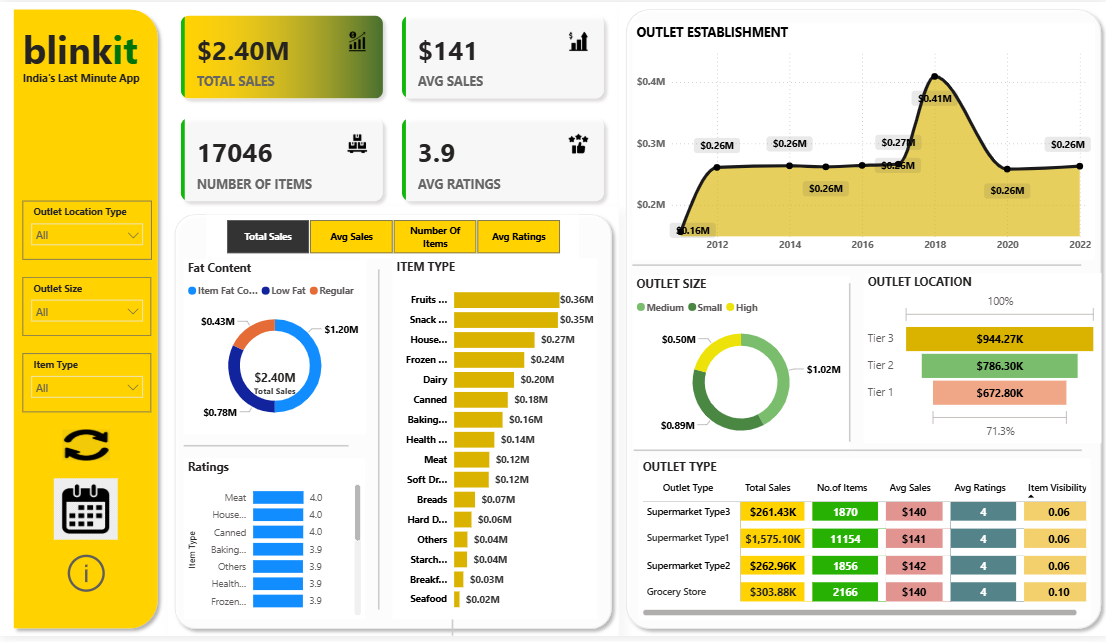

What the dashboard file says about the page in this screenshot:
{"tool":"powerbi","page":{"name":"Blinkit Dash board","canvas":[1400,800],"ordinal":0},"visuals":[{"type":"shape","box":[7.9,0,200.4,800.1],"z":0},{"type":"textbox","box":[23.7,22.1,173.6,78.9],"z":1000},{"type":"textbox","box":[23.7,82.1,173.6,37.9],"z":2000},{"type":"cardVisual","fields":{"Data":["BlinkIT Grocery Data.Total Sales","BlinkIT Grocery Data.Avg Sales","BlinkIT Grocery Data.Number Of Items","BlinkIT Grocery Data.Avg Ratings"]},"box":[211.5,0,569.7,268.3],"z":3000},{"type":"shape","box":[211.8,258.7,569.7,541.6],"z":4000},{"type":"donutChart","title":"FAT CONTENT","fields":{"Y":["BlinkIT Grocery Data.Total Sales"],"Category":["BlinkIT Grocery Data.Item Fat Content"]},"box":[232,325.1,230.4,220.9],"z":5000},{"type":"slicer","fields":{"Values":["Metrics.Metrics"]},"box":[260.4,268.3,470.3,55.2],"z":6000},{"type":"cardVisual","fields":{"Data":["BlinkIT Grocery Data.Total Sales"]},"box":[301.4,443.4,91.5,74.2],"z":7000},{"type":"clusteredBarChart","title":"FAT BY OUTLET","fields":{"Y":["BlinkIT Grocery Data.Total Sales"],"Category":["BlinkIT Grocery Data.Outlet Location Type"],"Series":["BlinkIT Grocery Data.Item Fat Content"]},"box":[231.4,575.7,231.4,204.3],"z":8000},{"type":"shape","box":[232,546,208.3,28.4],"z":9000},{"type":"shape","box":[553.9,370.8,34.7,429.2],"z":10000},{"type":"barChart","title":"ITEM TYPE","fields":{"Y":["BlinkIT Grocery Data.Total Sales"],"Category":["BlinkIT Grocery Data.Item Type"]},"box":[495.5,323.5,258.8,456],"z":11000},{"type":"shape","box":[781.5,0,618,800.3],"z":12000},{"type":"areaChart","title":" OUTLET ESTABLISHMENT ","fields":{"Y":["BlinkIT Grocery Data.Total Sales"],"Category":["BlinkIT Grocery Data.Outlet Establishment Year"]},"box":[798.5,26.8,583.9,298.2],"z":13000},{"type":"shape","box":[798.5,318.8,566.5,26.8],"z":14000},{"type":"donutChart","title":"OUTLET SIZE","fields":{"Y":["BlinkIT Grocery Data.Total Sales"],"Category":["BlinkIT Grocery Data.Outlet Size"]},"box":[798.5,345.6,274.6,220.9],"z":15000},{"type":"shape","box":[460.8,337.7,34.7,429.2],"z":16000},{"type":"shape","box":[1054.3,355.7,37.1,200],"z":17000},{"type":"funnel","title":"OUTLET LOCATION","fields":{"Y":["BlinkIT Grocery Data.Total Sales"],"Category":["BlinkIT Grocery Data.Outlet Location Type"]},"box":[1090,342.9,300,214.3],"z":18000},{"type":"shape","box":[800,552.9,565.7,27.1],"z":19000},{"type":"pivotTable","title":"OUTLET TYPE","fields":{"Rows":["BlinkIT Grocery Data.Outlet Type"],"Values":["BlinkIT Grocery Data.Total Sales","BlinkIT Grocery Data.Number Of Items","BlinkIT Grocery Data.Avg Sales","BlinkIT Grocery Data.Avg Ratings","Avg(BlinkIT Grocery Data.Item Visibility)"]},"box":[805.7,575.7,570,204.3],"z":20000},{"type":"slicer","fields":{"Values":["BlinkIT Grocery Data.Outlet Location Type"]},"box":[28.6,251.4,162.9,74.3],"z":21000},{"type":"slicer","fields":{"Values":["BlinkIT Grocery Data.Outlet Size"]},"box":[28.4,347.2,162.5,74.2],"z":22000},{"type":"actionButton","box":[80.2,564.9,60,39.5],"z":23000},{"type":"slicer","fields":{"Values":["BlinkIT Grocery Data.Item Type"]},"box":[28.4,443.4,162.5,74.2],"z":24000},{"type":"actionButton","box":[69.4,639.1,80.5,77.3],"z":26000}]}

Visuals, with their boxes in screenshot pixels (x1, y1, x2, y2), scaled from the page's 1400x800 canvas onto the 1106x642 screenshot:
shape: pyautogui.locateOnScreen(6, 0, 165, 641)
textbox: pyautogui.locateOnScreen(19, 18, 156, 81)
textbox: pyautogui.locateOnScreen(19, 66, 156, 96)
cardVisual - BlinkIT Grocery Data.Total Sales x BlinkIT Grocery Data.Avg Sales: pyautogui.locateOnScreen(167, 0, 617, 215)
shape: pyautogui.locateOnScreen(167, 208, 617, 641)
"FAT CONTENT" donutChart: pyautogui.locateOnScreen(183, 261, 365, 438)
slicer - Metrics.Metrics: pyautogui.locateOnScreen(206, 215, 577, 260)
cardVisual - BlinkIT Grocery Data.Total Sales: pyautogui.locateOnScreen(238, 356, 310, 415)
"FAT BY OUTLET" clusteredBarChart: pyautogui.locateOnScreen(183, 462, 366, 626)
shape: pyautogui.locateOnScreen(183, 438, 348, 461)
shape: pyautogui.locateOnScreen(438, 298, 465, 641)
"ITEM TYPE" barChart: pyautogui.locateOnScreen(391, 260, 596, 626)
shape: pyautogui.locateOnScreen(617, 0, 1105, 641)
" OUTLET ESTABLISHMENT " areaChart: pyautogui.locateOnScreen(631, 22, 1092, 261)
shape: pyautogui.locateOnScreen(631, 256, 1078, 277)
"OUTLET SIZE" donutChart: pyautogui.locateOnScreen(631, 277, 848, 455)
shape: pyautogui.locateOnScreen(364, 271, 391, 615)
shape: pyautogui.locateOnScreen(833, 285, 862, 446)
"OUTLET LOCATION" funnel: pyautogui.locateOnScreen(861, 275, 1098, 447)
shape: pyautogui.locateOnScreen(632, 444, 1079, 465)
"OUTLET TYPE" pivotTable: pyautogui.locateOnScreen(637, 462, 1087, 626)
slicer - BlinkIT Grocery Data.Outlet Location Type: pyautogui.locateOnScreen(23, 202, 151, 261)
slicer - BlinkIT Grocery Data.Outlet Size: pyautogui.locateOnScreen(22, 279, 151, 338)
actionButton: pyautogui.locateOnScreen(63, 453, 111, 485)
slicer - BlinkIT Grocery Data.Item Type: pyautogui.locateOnScreen(22, 356, 151, 415)
actionButton: pyautogui.locateOnScreen(55, 513, 118, 575)
